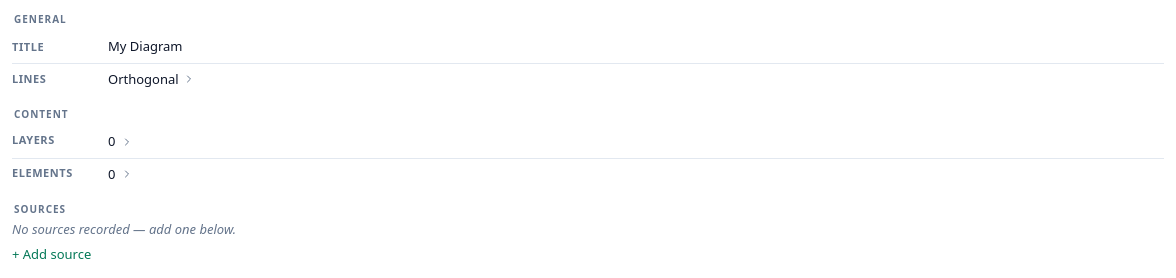
Test: DIAG-3.13-31: DiagramProperties — title editable › double-clicking the Title row opens an input with the current title
Double-click the text "My Diagram" at (588, 47), box [12, 31, 1164, 64]
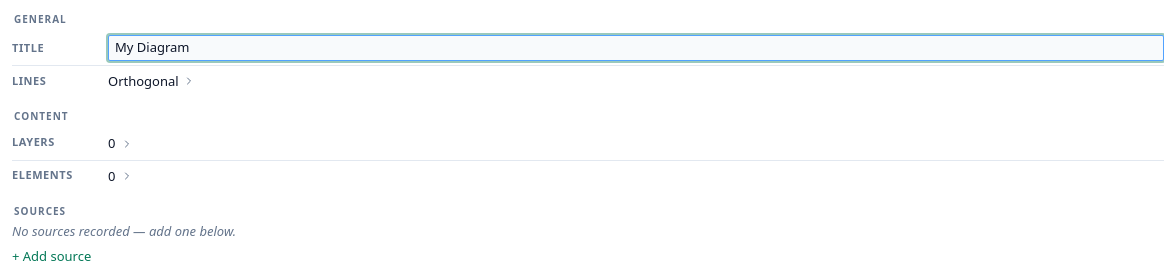
expect the field holds "My Diagram": met, box [108, 35, 1164, 60]
